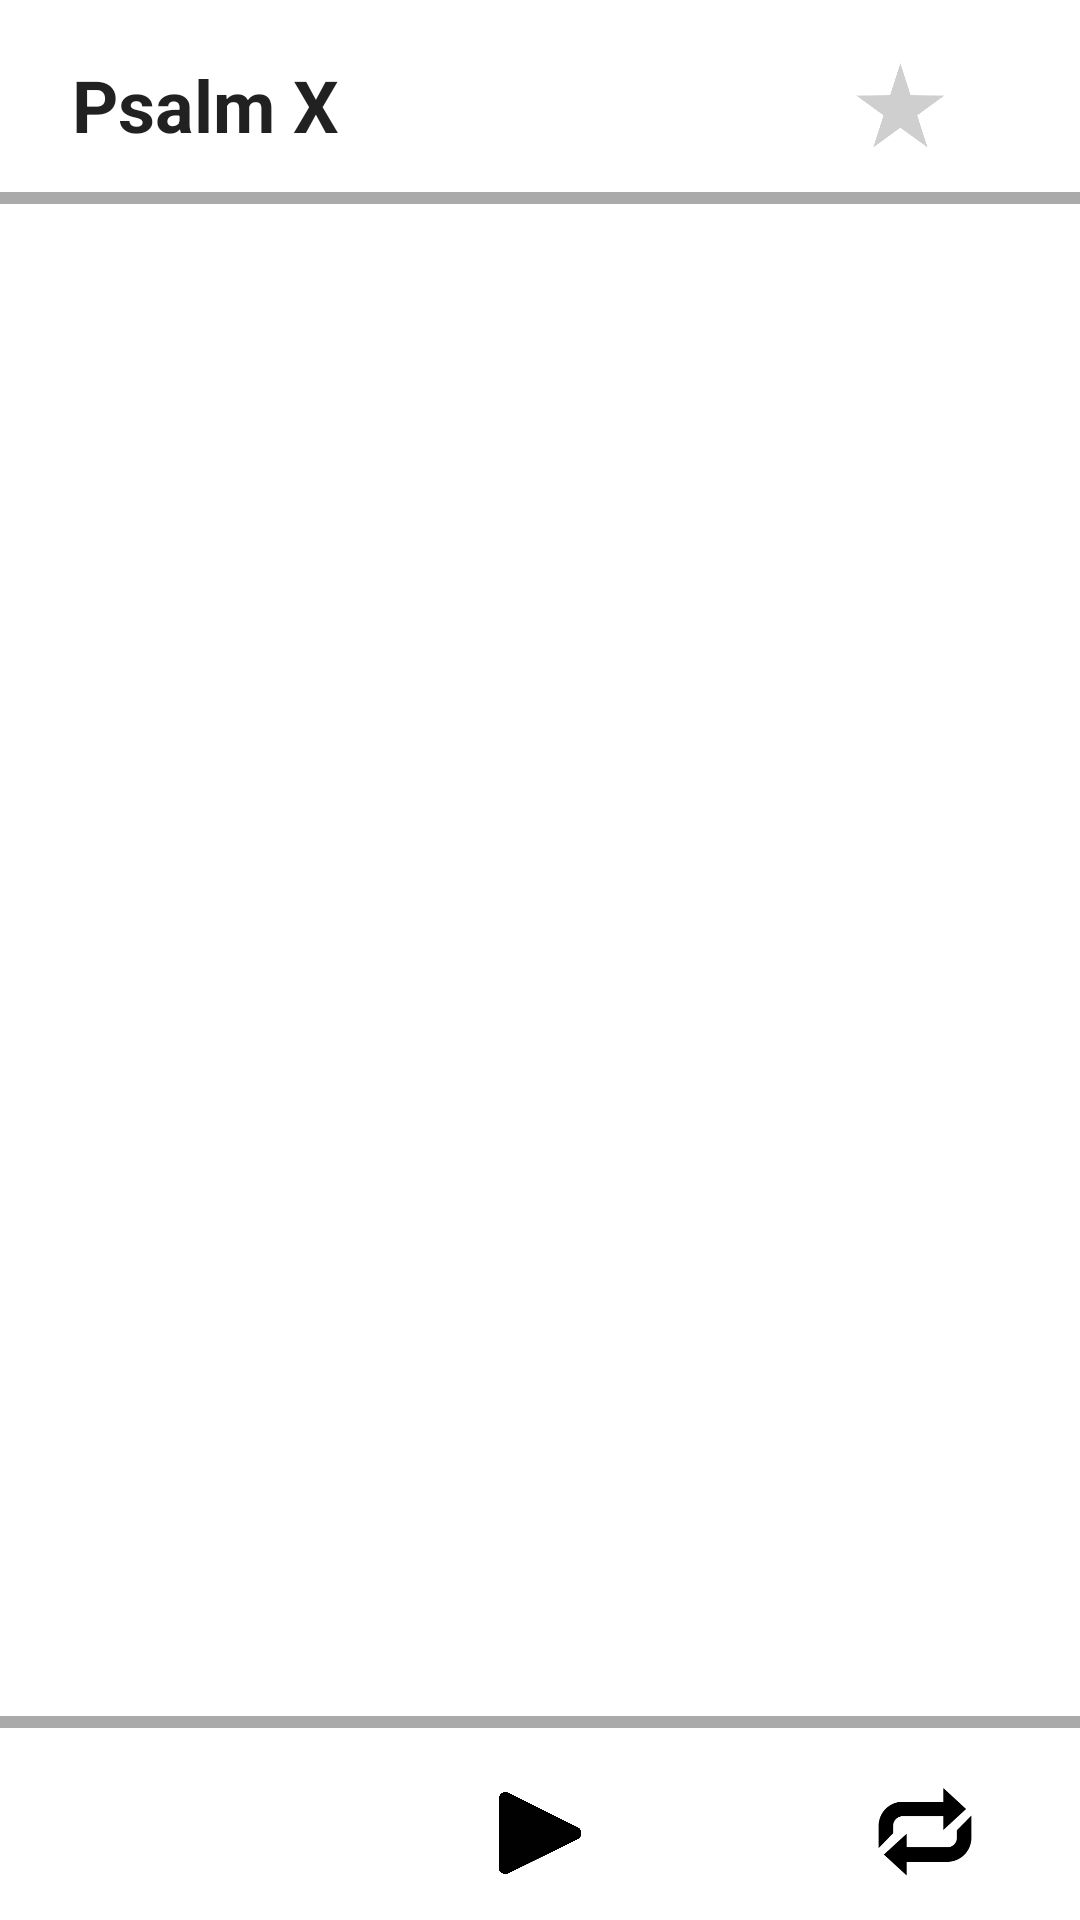

Named icons in this screenshot (1080×1920) and their centers, point (x, y):
empty star: point (900, 105)
play: point (540, 1833)
repeat: point (925, 1832)
